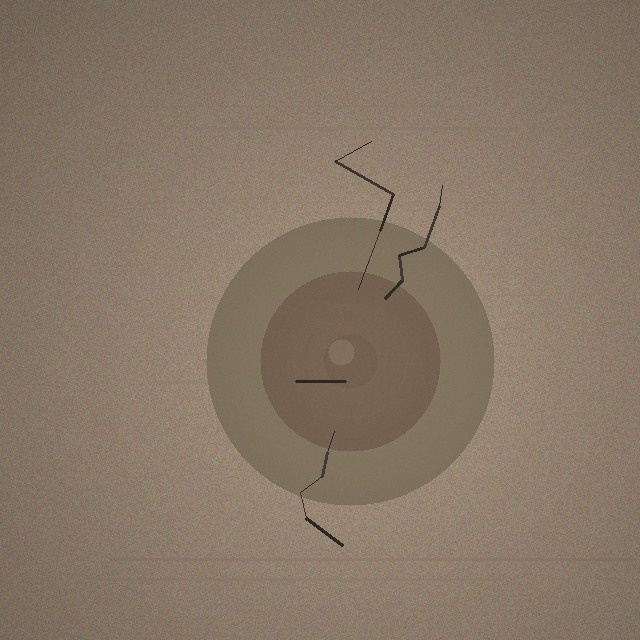crack: (206, 217, 494, 505)
